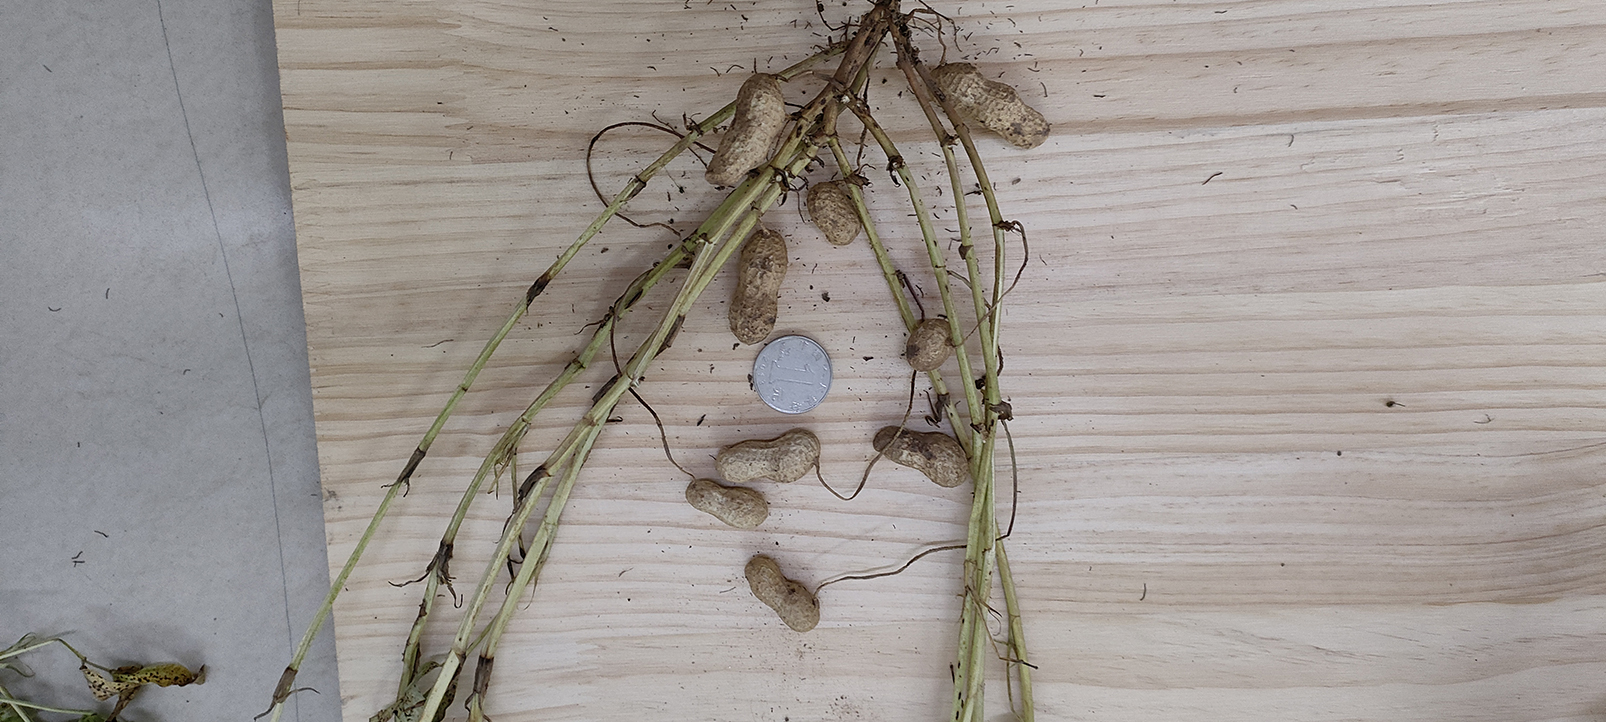h: (931, 61, 1052, 148), (706, 78, 787, 190), (728, 225, 789, 347), (715, 428, 822, 485), (745, 555, 819, 631), (685, 479, 768, 528), (808, 182, 862, 246), (906, 318, 952, 372)
l: (873, 424, 969, 489)
